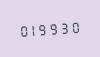nine: (51, 19, 61, 36), (40, 20, 50, 36)
one: (28, 21, 38, 37)
three: (62, 19, 72, 35)
zero: (17, 22, 27, 38), (73, 18, 83, 34)
